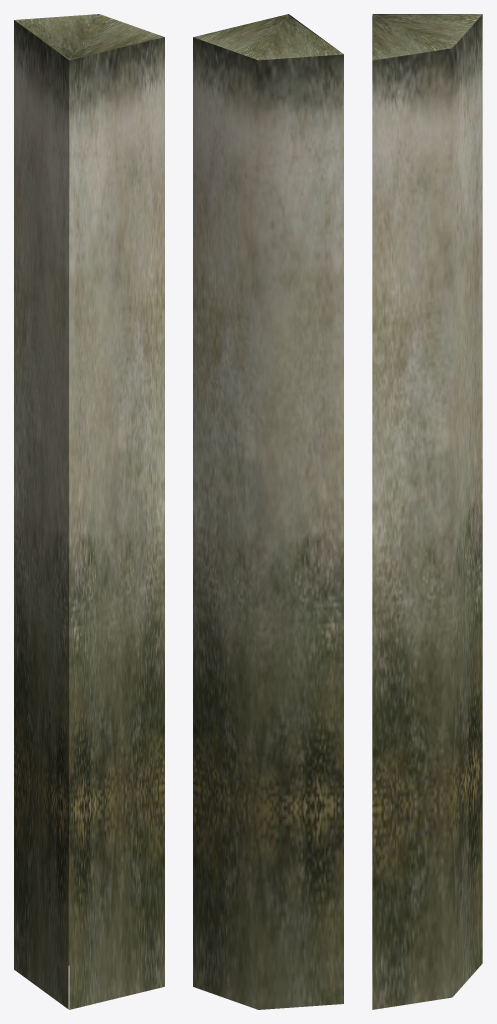
File: TallWallStucco_Corner.fbx
3 renders of one model, left to right at view 1: azimuth 30°, elevation 25°; view 2: azimuth 210°, elevation 25°; view 3: azimuth 270°, elevation 25°, orthographic.
Parts seen in each view (by area): view 1: lod_high; view 2: lod_high; view 3: lod_high.
Part boxes in pixels (x1,y1,x2,y2): lod_high: (14, 14, 164, 1009); lod_high: (193, 14, 343, 1009); lod_high: (372, 14, 482, 1009).
Size of the model in its own units: 200 by 1900 by 201.
1 material, 1 textured.
